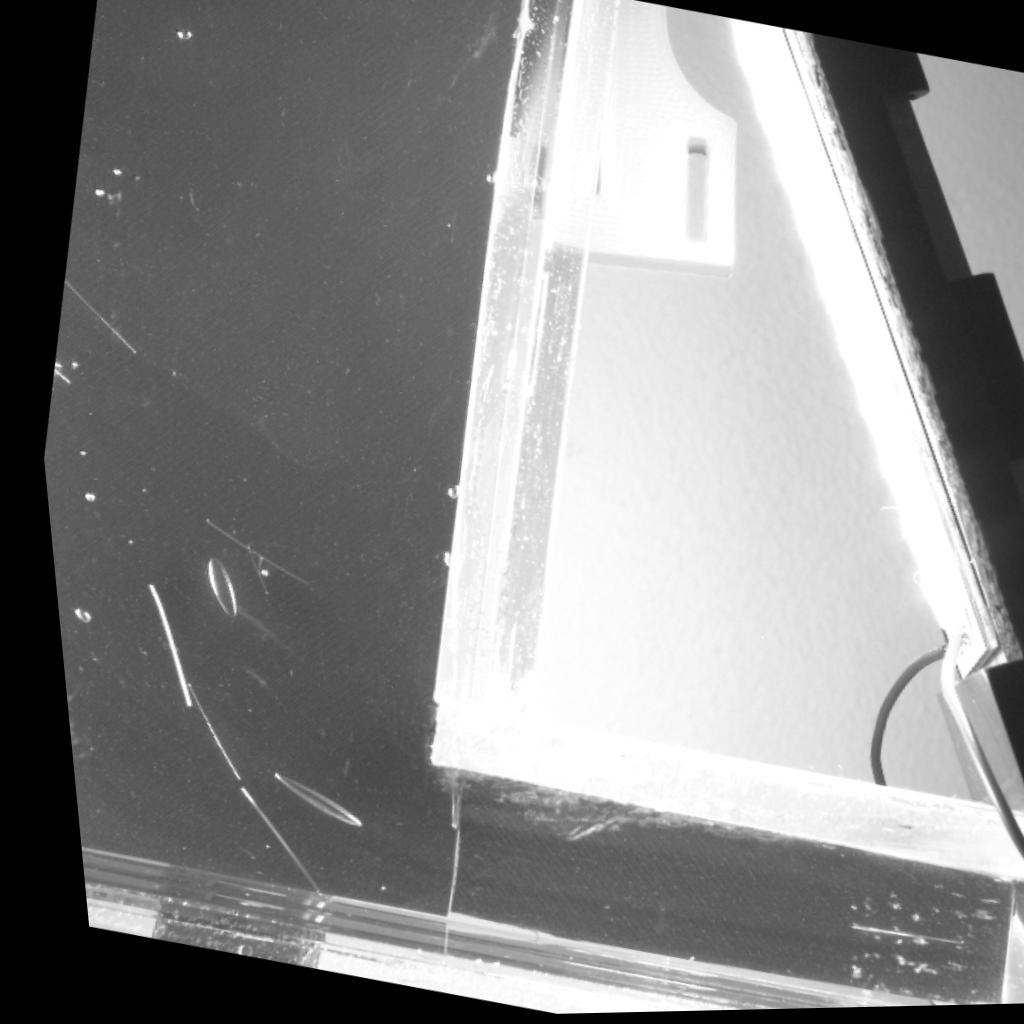Fiber: (221, 789, 314, 898), (192, 515, 299, 589), (171, 679, 231, 785), (131, 584, 179, 709), (61, 275, 131, 357), (837, 925, 953, 952), (48, 370, 68, 386)
